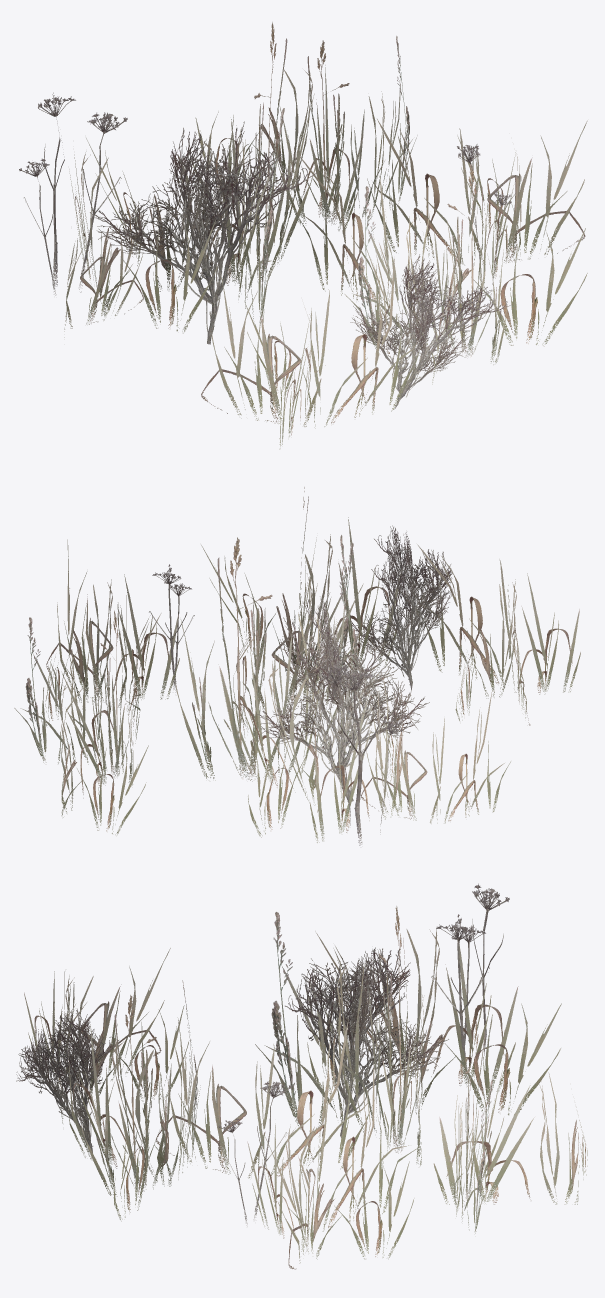
The model's file is proc_dryplantsgrass_01.FBX.
3 renders of one model, top to bottom at view 1: azimuth 30°, elevation 25°; view 2: azimuth 150°, elevation 25°; view 3: azimuth 270°, elevation 25°, orthographic. The views are drawn at different scales.
Parts seen in each view (by area): view 1: proc_dryplantsgrass_01; view 2: proc_dryplantsgrass_01; view 3: proc_dryplantsgrass_01.
Part boxes in pixels (<box>): proc_dryplantsgrass_01: <box>19,22,587,449</box>; proc_dryplantsgrass_01: <box>14,487,580,845</box>; proc_dryplantsgrass_01: <box>16,883,587,1269</box>.
Bounding box in the file's own units: 1.64 × 1.61 × 0.8779.
Materials: 1 (1 with a texture image).
